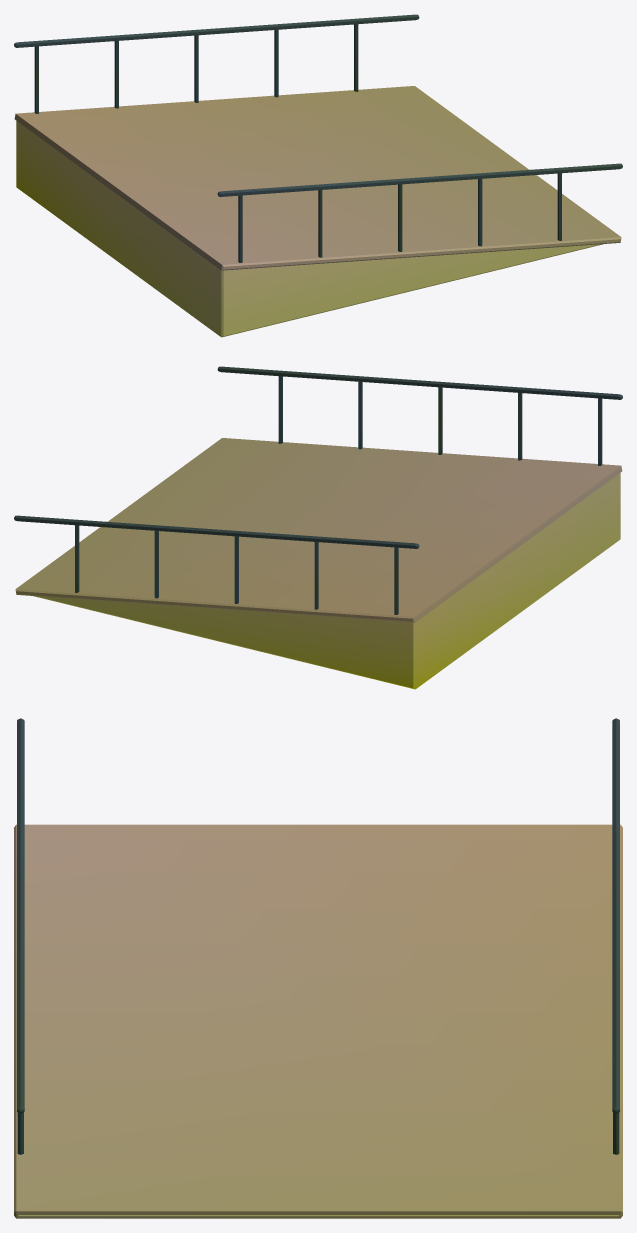
File: GS_Platform_Island_End.glb
The picture shows the model from 3 angles, top to bottom: view 1: azimuth 30°, elevation 25°; view 2: azimuth 150°, elevation 25°; view 3: azimuth 270°, elevation 25°; orthographic projection. The views are drawn at different scales.
Parts seen in each view (by area): view 1: GS_Platform_Island_End; view 2: GS_Platform_Island_End; view 3: GS_Platform_Island_End.
Part boxes in pixels (x1,y1,x2,y2): GS_Platform_Island_End: (14, 14, 622, 337); GS_Platform_Island_End: (14, 366, 622, 689); GS_Platform_Island_End: (14, 718, 622, 1218).
Bounding box in the file's own units: 6.08 × 2.12 × 5.42.
